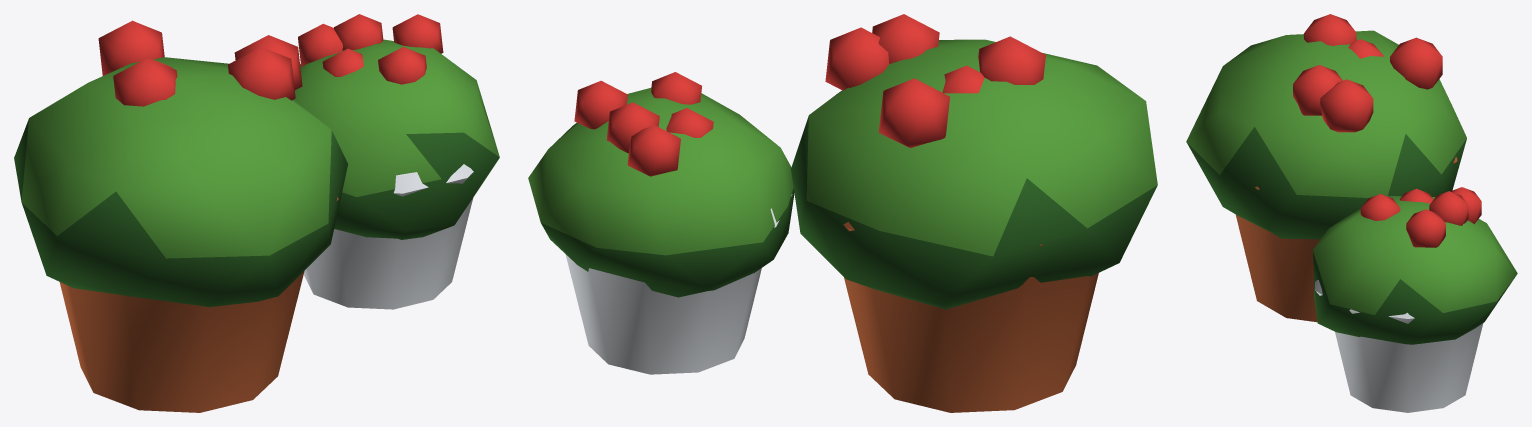
Rendered from GeraniumPot.fbx.
3 views of the same model, side by side, from view 1: azimuth 30°, elevation 25°; view 2: azimuth 150°, elevation 25°; view 3: azimuth 270°, elevation 25° (orthographic). The views are drawn at different scales.
Visible parts, largest first — view 1: GeraniumPot; view 2: GeraniumPot; view 3: GeraniumPot.
Part boxes in pixels (left/top/right/bottom): GeraniumPot: left=14, top=14, right=499, bottom=412; GeraniumPot: left=528, top=14, right=1157, bottom=412; GeraniumPot: left=1186, top=14, right=1517, bottom=412.
Bounding box in the file's own units: 0.762 × 0.4678 × 0.5348.
Materials: 1 (1 with a texture image).
